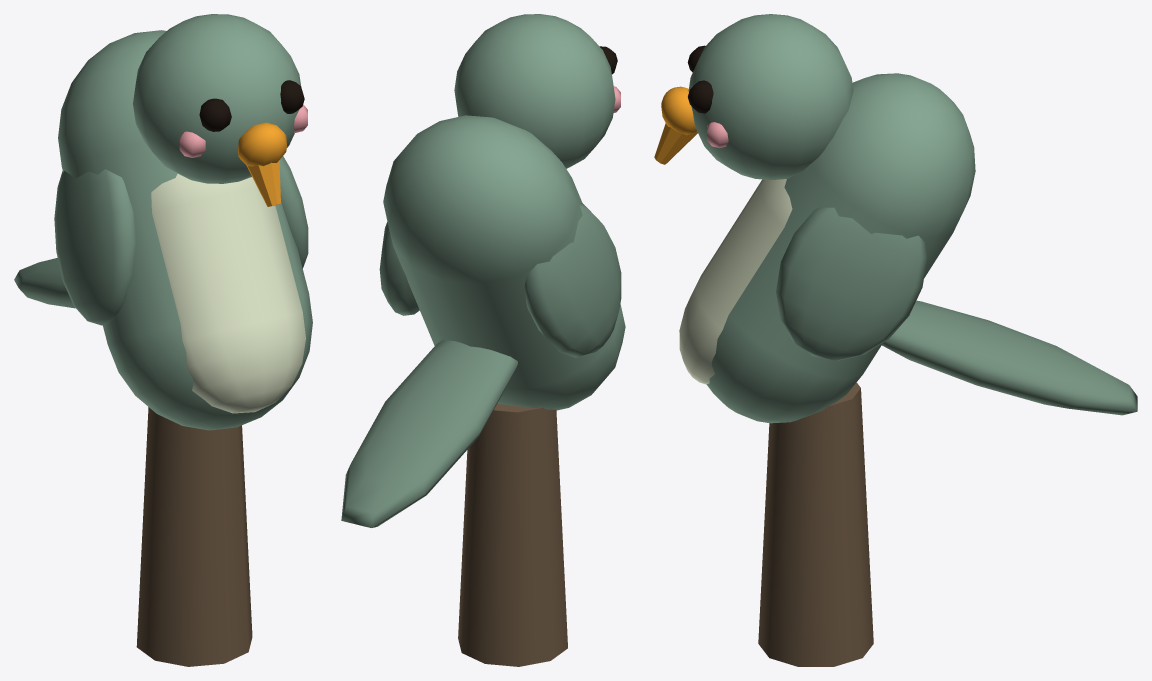
The model's file is h37-parkit.glb.
3 renders of one model, left to right at view 1: azimuth 30°, elevation 25°; view 2: azimuth 150°, elevation 25°; view 3: azimuth 270°, elevation 25°, orthographic. The views are drawn at different scales.
Visible parts, largest first — view 1: Burung Parkit, head; view 2: Burung Parkit, head; view 3: Burung Parkit, head.
Boxes of the visible parts, x1=… form: Burung Parkit: x1=14, y1=30, x2=312, y2=666; head: x1=133, y1=14, x2=307, y2=206; Burung Parkit: x1=341, y1=115, x2=625, y2=666; head: x1=454, y1=14, x2=620, y2=168; Burung Parkit: x1=679, y1=73, x2=1137, y2=666; head: x1=654, y1=14, x2=853, y2=180.
Bounding box in the file's own units: 0.1373 × 0.3852 × 0.2712.
